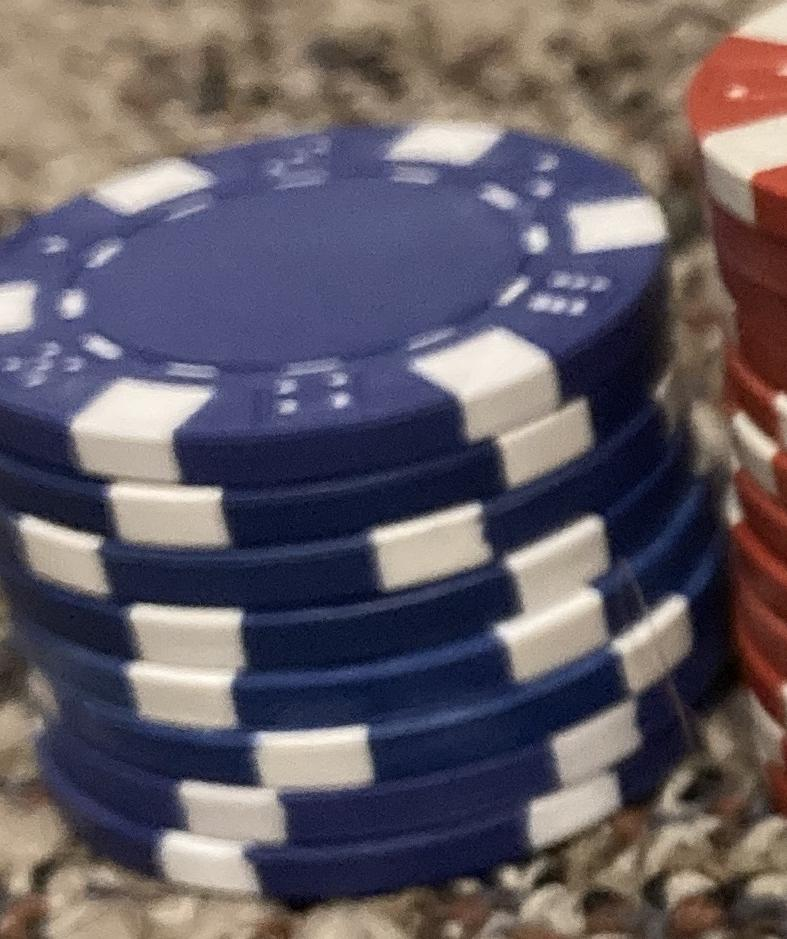Chip: (1, 1, 787, 939)
